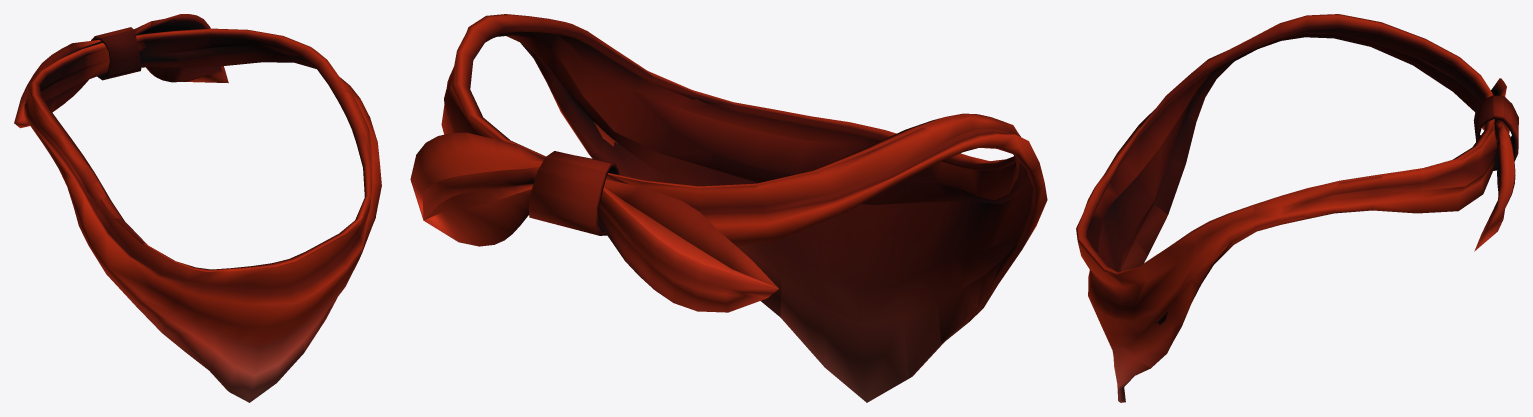
Rendered from Mask_Cowboy_Scarf.gltf.
The picture shows the model from 3 angles, left to right: view 1: azimuth 30°, elevation 25°; view 2: azimuth 150°, elevation 25°; view 3: azimuth 270°, elevation 25°; orthographic projection. The views are drawn at different scales.
Visible parts, largest first — view 1: Mask_Cowboy_Scarf; view 2: Mask_Cowboy_Scarf; view 3: Mask_Cowboy_Scarf.
Part boxes in pixels (x1,y1,x2,y2): Mask_Cowboy_Scarf: (14, 14, 381, 402); Mask_Cowboy_Scarf: (410, 14, 1047, 402); Mask_Cowboy_Scarf: (1076, 14, 1518, 402).
Size of the model in its own units: 1.08 by 0.881 by 1.12.
Materials: 1 (1 with a texture image).
